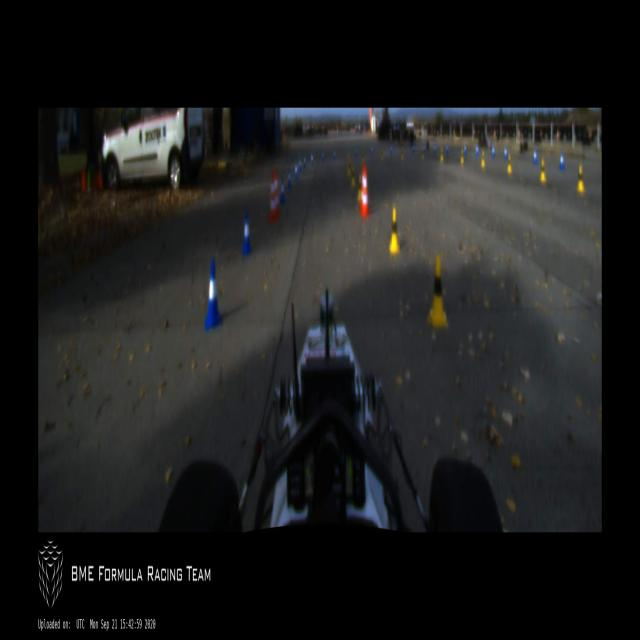blue_cone: (204, 260, 222, 330), (242, 211, 252, 254), (280, 177, 285, 201), (532, 148, 538, 164), (560, 152, 564, 169), (310, 151, 314, 167), (288, 168, 291, 188), (321, 149, 325, 163), (295, 162, 298, 180), (299, 156, 302, 172), (355, 146, 359, 157), (303, 156, 306, 170), (333, 147, 336, 161), (504, 146, 507, 159), (371, 144, 374, 156), (492, 145, 495, 156), (464, 144, 467, 155), (390, 144, 393, 155), (412, 142, 415, 152), (476, 144, 478, 155)
large_orange_cone: (362, 168, 369, 217), (270, 172, 276, 220), (274, 170, 280, 218), (359, 164, 364, 212)
yellow_cone: (430, 255, 448, 328), (389, 207, 400, 253), (578, 164, 584, 190), (540, 158, 546, 180), (357, 174, 361, 200), (507, 152, 512, 172), (351, 165, 355, 186), (481, 149, 485, 166), (460, 148, 464, 163), (348, 158, 351, 177), (440, 147, 444, 160), (380, 148, 384, 160), (401, 146, 404, 161), (361, 149, 364, 160)
